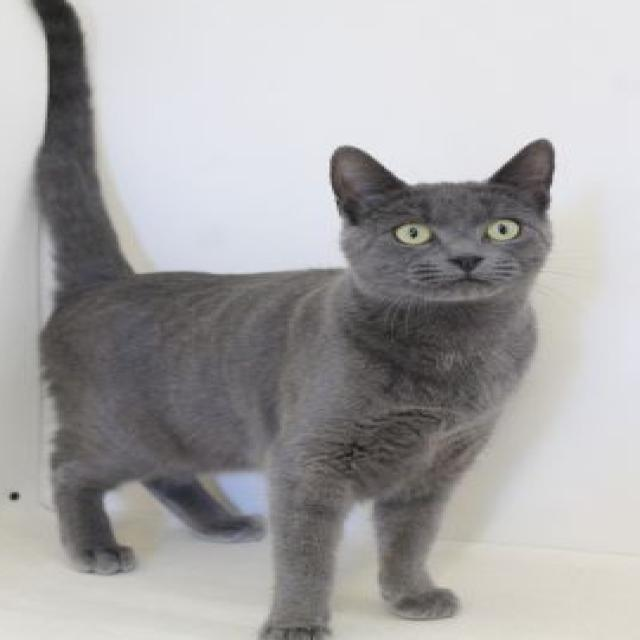Russian Blue: (19, 0, 559, 640)
